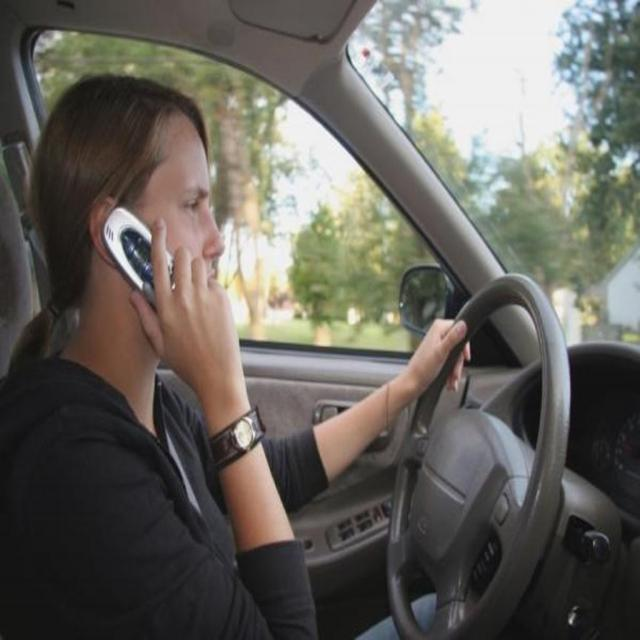nomask: (128, 111, 224, 338)
